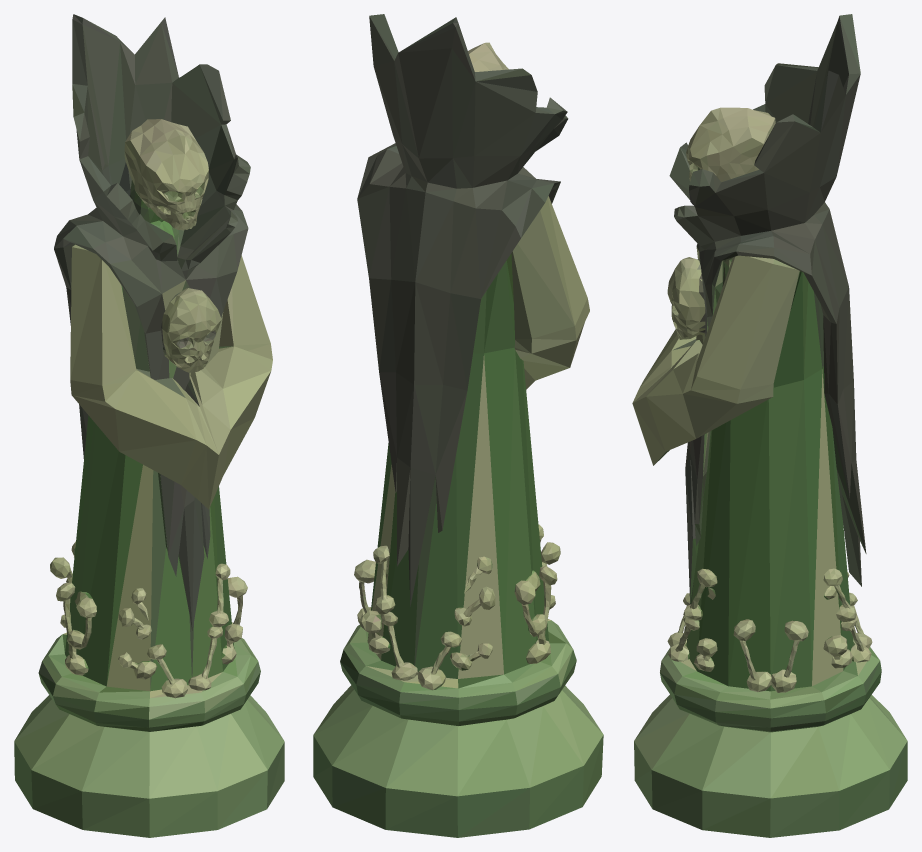
The model's file is necromancien.glb.
3 renders of one model, left to right at view 1: azimuth 30°, elevation 25°; view 2: azimuth 150°, elevation 25°; view 3: azimuth 270°, elevation 25°, orthographic. The views are drawn at different scales.
Parts seen in each view (by area): view 1: mesh_node; view 2: mesh_node; view 3: mesh_node.
Boxes of the visible parts, x1=… form: mesh_node: x1=14, y1=14, x2=284, y2=837; mesh_node: x1=313, y1=14, x2=603, y2=837; mesh_node: x1=632, y1=14, x2=907, y2=837.
Size of the model in its own units: 0.3301 by 1 by 0.333.
